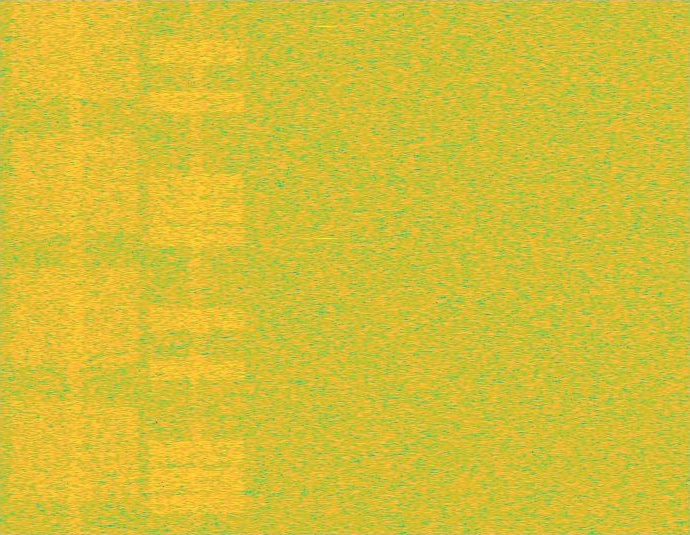5G: (6, 0, 144, 534)
DSSS: (65, 0, 84, 534), (190, 0, 204, 534)
LTE: (145, 0, 249, 534)
Radar: (319, 0, 333, 534)
